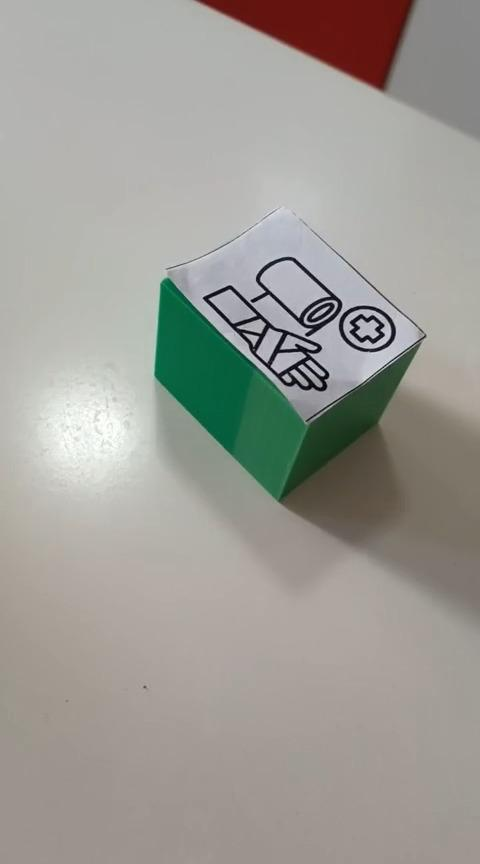Bandages: (152, 204, 426, 502)
